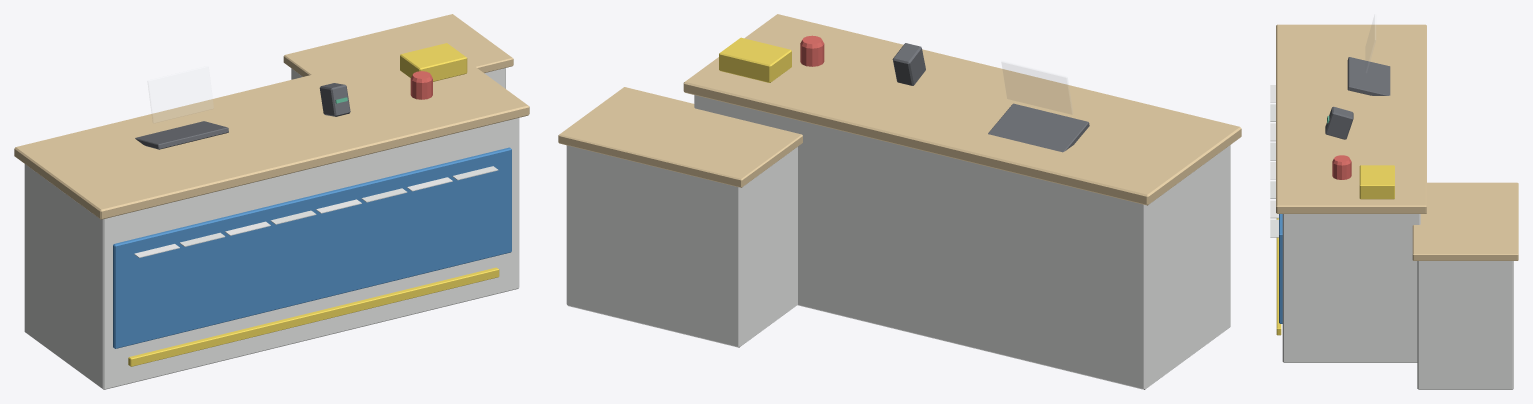
Rendered from public-swimming-baths-and-poolside-baths-reception-des-9358a32f__35276.glb.
3 renders of one model, left to right at view 1: azimuth 30°, elevation 25°; view 2: azimuth 150°, elevation 25°; view 3: azimuth 270°, elevation 25°, orthographic. The views are drawn at different scales.
Visible parts, largest first — view 1: baths-reception-desk; view 2: baths-reception-desk; view 3: baths-reception-desk.
Boxes of the visible parts, <box> form: baths-reception-desk: <box>14,14,529,389</box>; baths-reception-desk: <box>558,14,1241,389</box>; baths-reception-desk: <box>1270,14,1518,389</box>.
Bounding box in the file's own units: 3.07 × 1.47 × 1.55.
